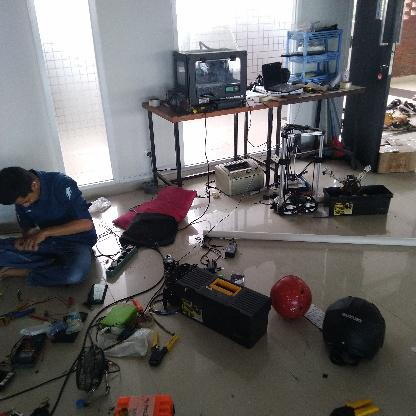red_buoy: (270, 274, 314, 321)
